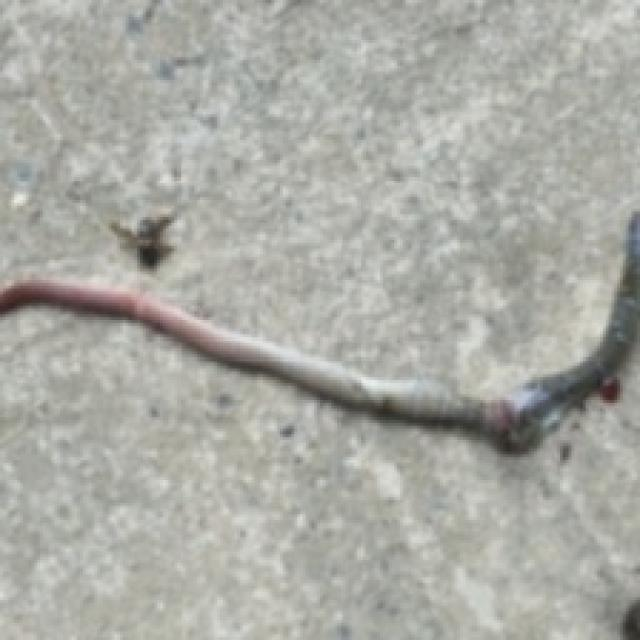reddish rat snake: (0, 211, 637, 451)
